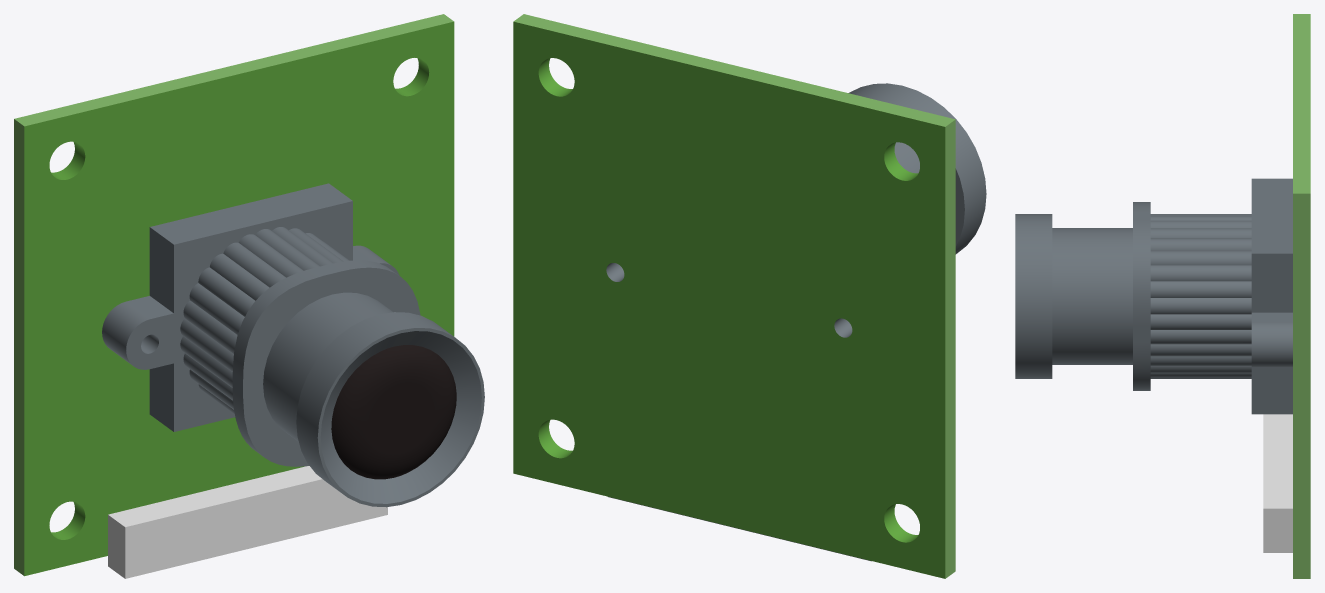
Rendered from ArduCam_M12Lens.glb.
3 views of the same model, side by side, from view 1: azimuth 30°, elevation 25°; view 2: azimuth 150°, elevation 25°; view 3: azimuth 270°, elevation 25° (orthographic). The views are drawn at different scales.
Parts seen in each view (by area): view 1: Part 1; view 2: Part 1; view 3: Part 1.
Boxes of the visible parts, box(x1,y1,x2,y2) form: Part 1: box(14, 14, 484, 578); Part 1: box(513, 14, 986, 578); Part 1: box(1015, 14, 1310, 578).
Size of the model in its own units: 0.036 by 0.0368 by 0.025.
